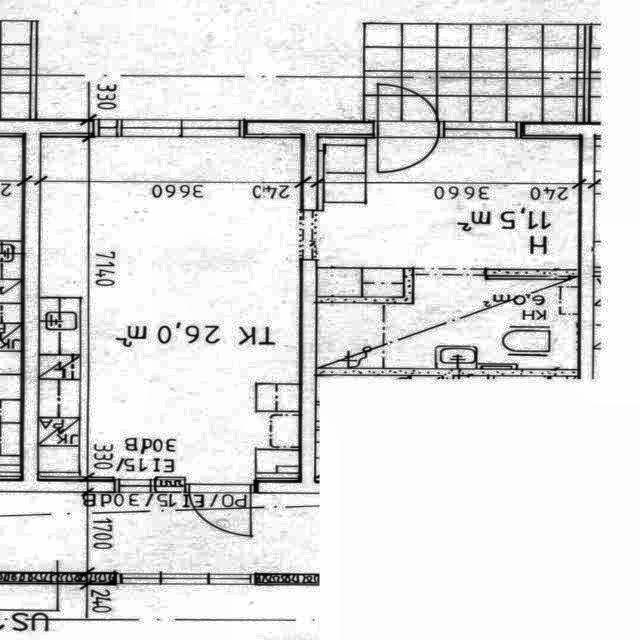room: (38, 135, 303, 482), (317, 137, 581, 298), (316, 275, 579, 370)
